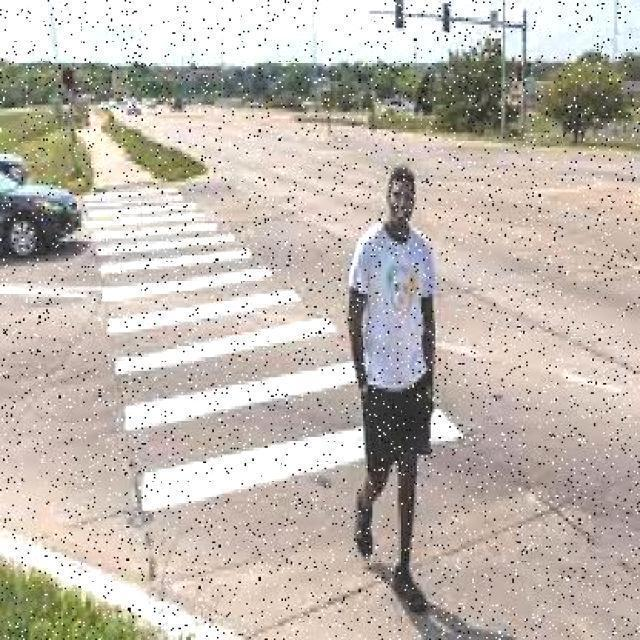crosswalk: (85, 186, 470, 517)
